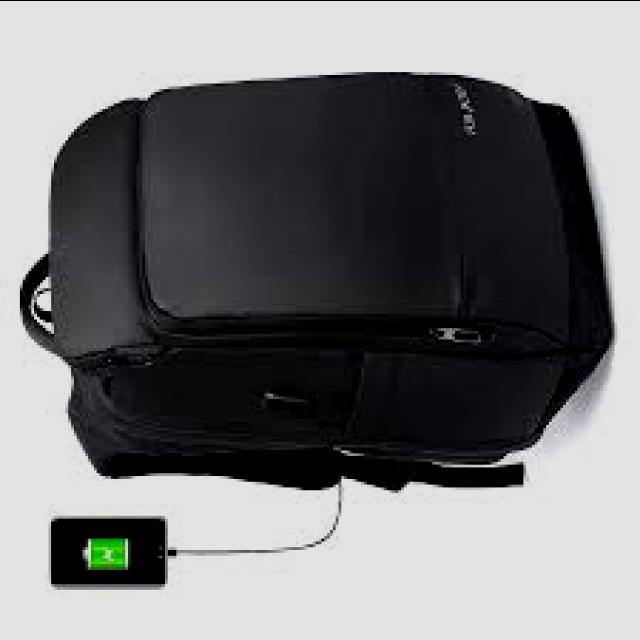backpack: (19, 72, 613, 496)
